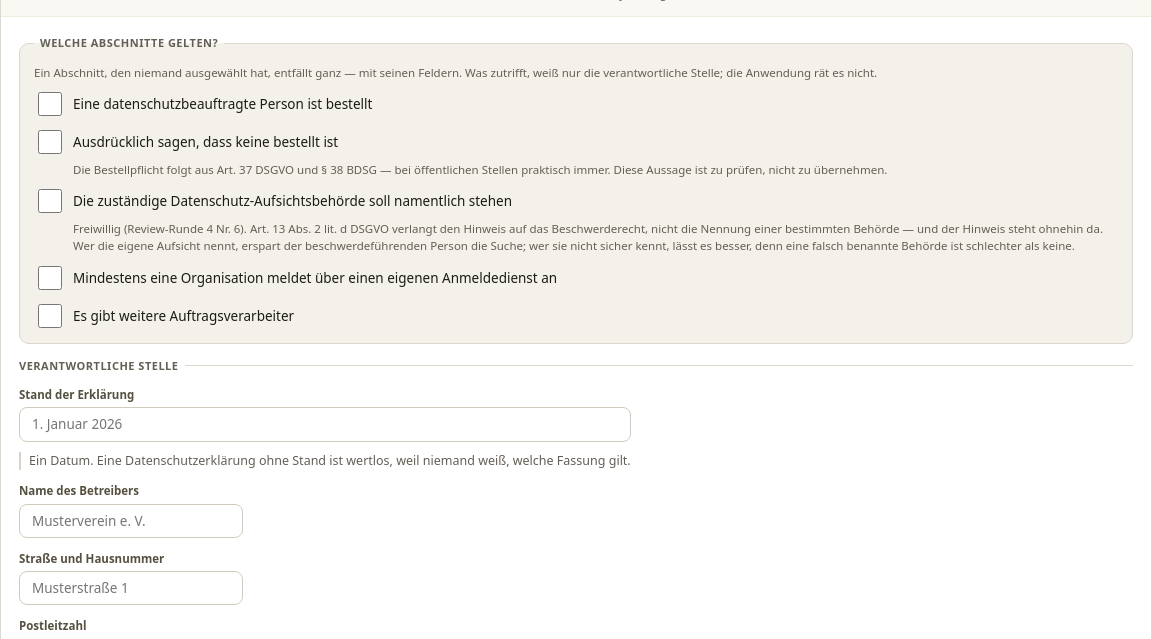
Test: der Rechtstext-Editor › fragt die Aufsichtsbehörde erst, wenn sie genannt werden soll
Expected: the field labelled "Zuständige Datenschutz-Aufsichtsbehörde (Name und Anschrift)" is not shown
Click the checkbox labelled "Die zuständige Datenschutz-Aufsichtsbehörde soll namentlich stehen".
click(50, 201)  # box [38,189,62,213]
(page scrolled)
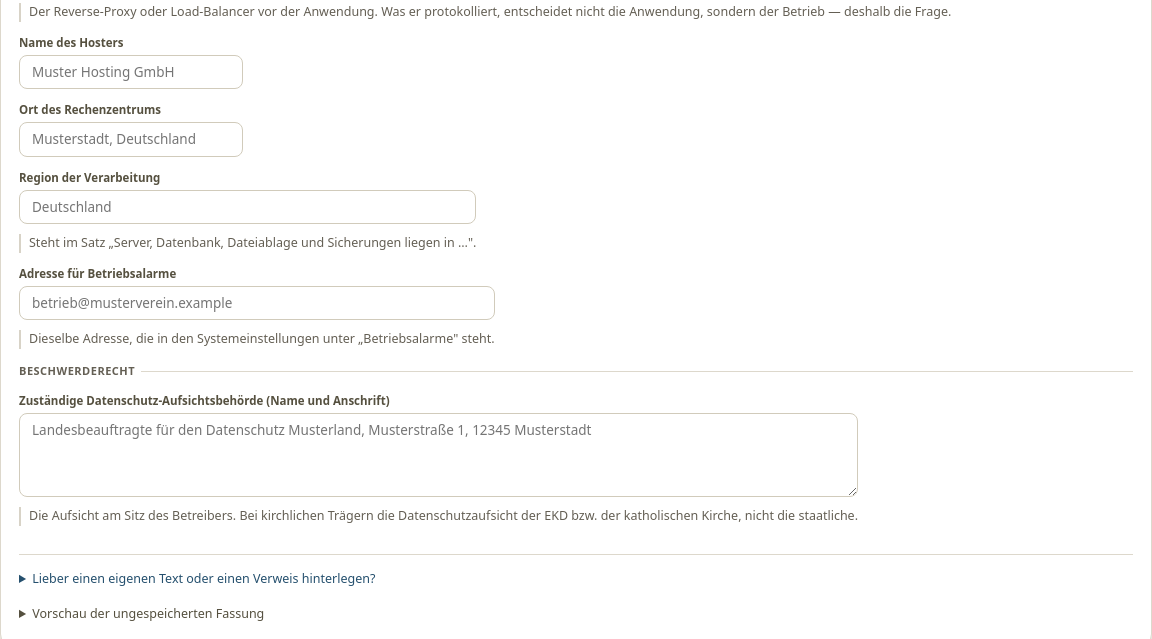
Now the text box labelled "Zuständige Datenschutz-Aufsichtsbehörde (Name und Anschrift)" is shown, box [19,413,858,497]
